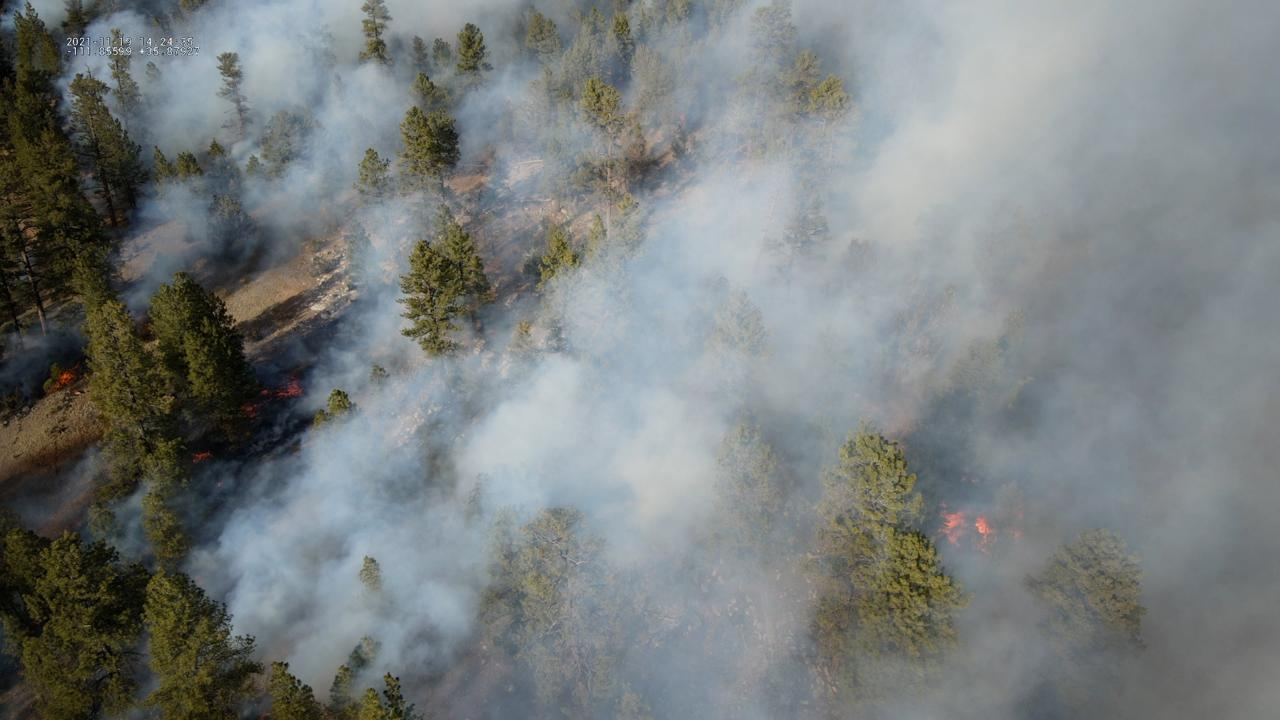fire: (938, 501, 970, 547), (259, 376, 305, 397), (49, 366, 79, 389), (238, 400, 259, 423), (974, 514, 993, 538), (189, 448, 215, 464)
smoke: (0, 0, 1280, 720)
